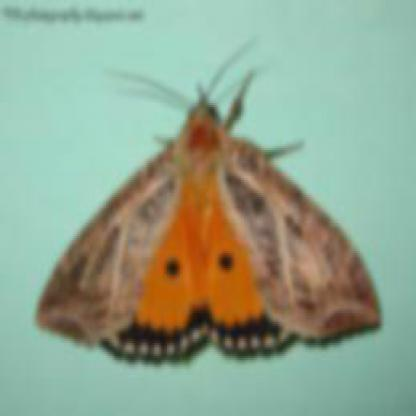fruit sucking moth: (31, 86, 380, 365)
